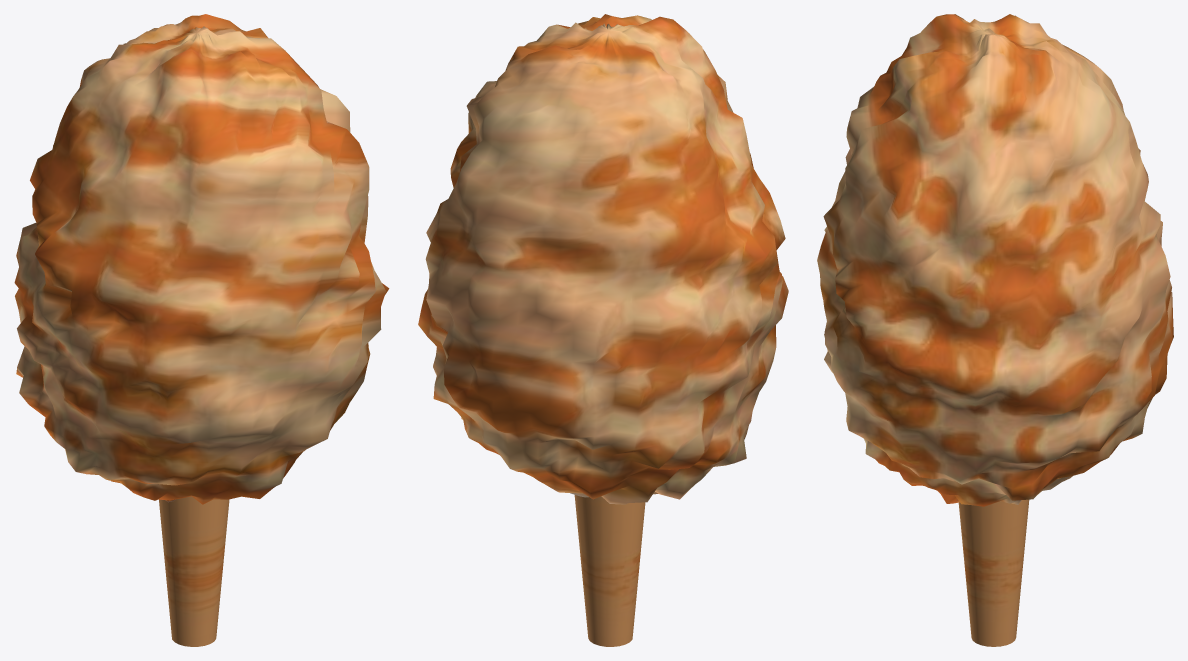
File: ArbolN1.fbx
The picture shows the model from 3 angles, left to right: view 1: azimuth 30°, elevation 25°; view 2: azimuth 150°, elevation 25°; view 3: azimuth 270°, elevation 25°; orthographic projection.
Visible parts, largest first — view 1: boom_009; view 2: boom_009; view 3: boom_009.
Boxes of the visible parts, x1,y1,x2,y2 form: boom_009: (14,14,389,646); boom_009: (418,14,788,646); boom_009: (817,14,1173,646).
Bounding box in the file's own units: 50.19 × 89.11 × 47.33.
1 material, 1 textured.
